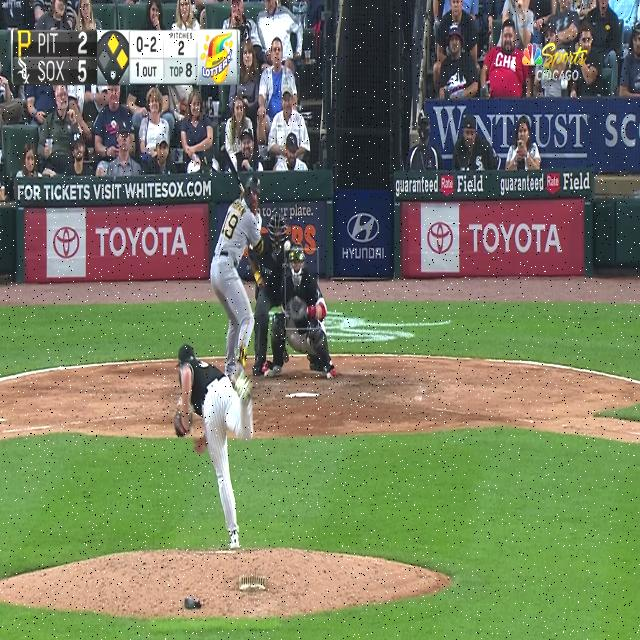baseball: (284, 239, 291, 252)
